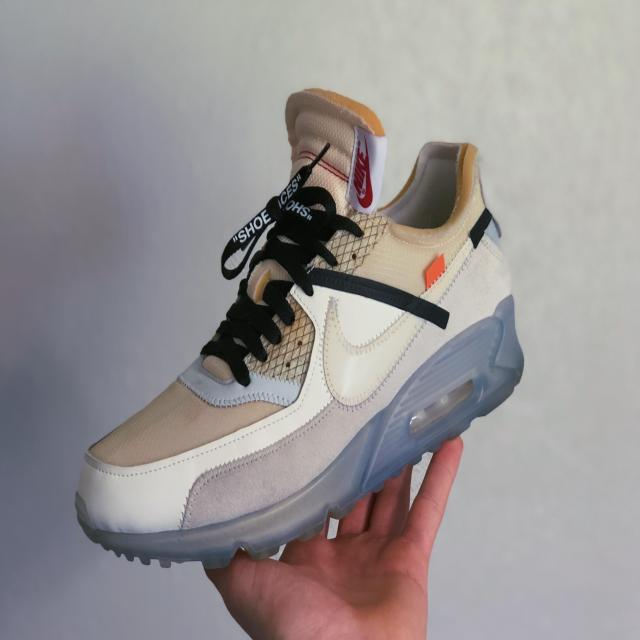shoes: (69, 70, 532, 560)
